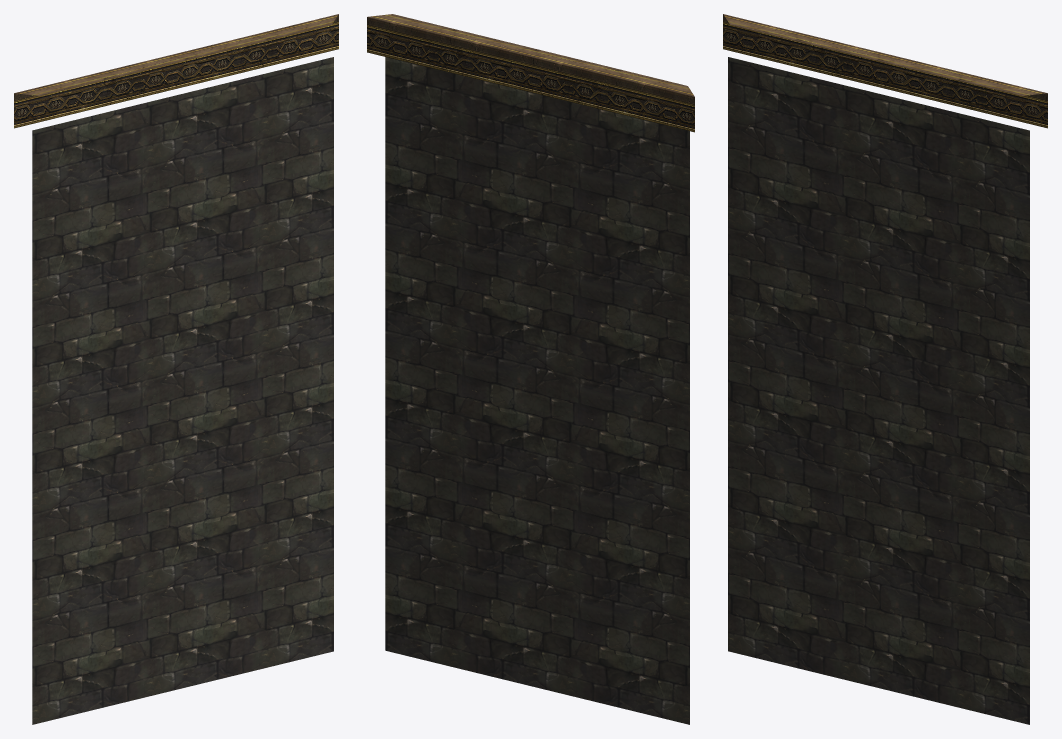
The model's file is A03_battle_a_part.FBX.
The picture shows the model from 3 angles, left to right: view 1: azimuth 30°, elevation 25°; view 2: azimuth 150°, elevation 25°; view 3: azimuth 330°, elevation 25°; orthographic projection.
Visible parts, largest first — view 1: A03_battle_a_part; view 2: A03_battle_a_part; view 3: A03_battle_a_part.
Part boxes in pixels (left/top/right/bottom): A03_battle_a_part: left=14, top=14, right=338, bottom=724; A03_battle_a_part: left=367, top=14, right=694, bottom=724; A03_battle_a_part: left=723, top=14, right=1047, bottom=724.
Bounding box in the file's own units: 9.08 × 16.82 × 0.449.
